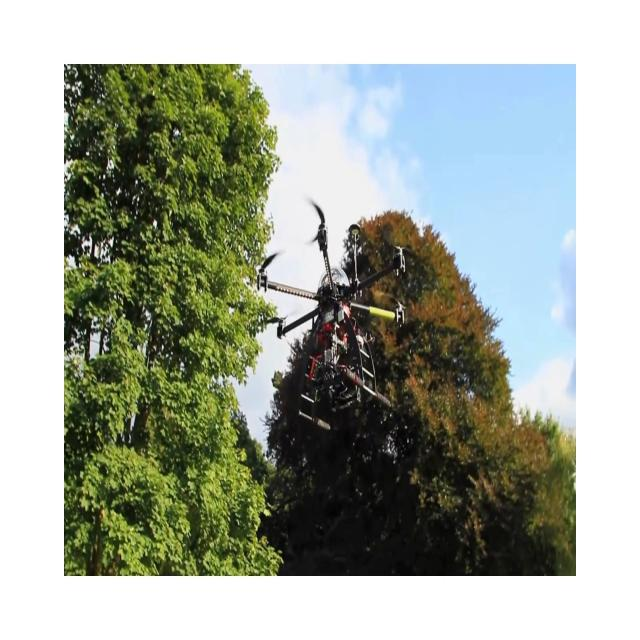drone: (256, 198, 411, 431)
